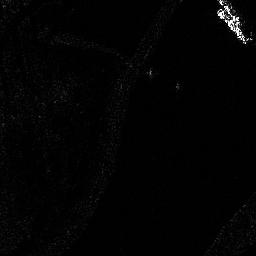ship: (215, 7, 250, 43)
